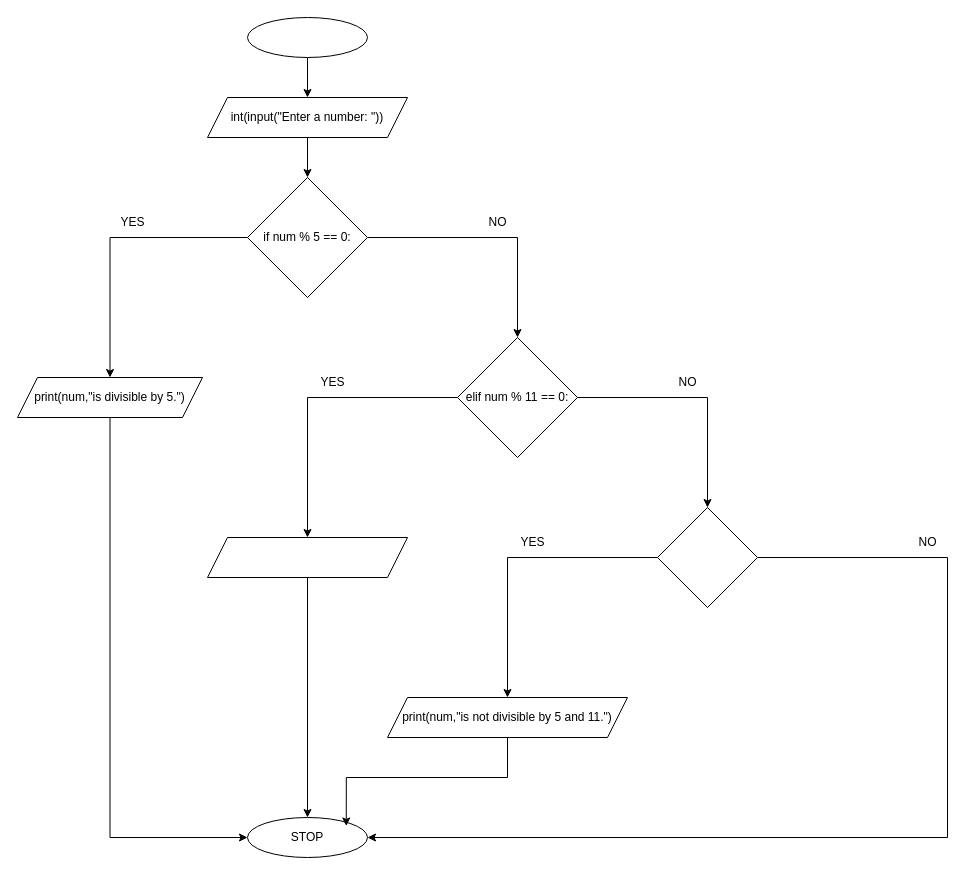
This 973x875 diagram has some shape labels left out. Each missing label, with the centre of its shape:
else:: point (707, 557)
print(num,"is divisible by 11."): point (307, 557)
START: point (307, 37)
